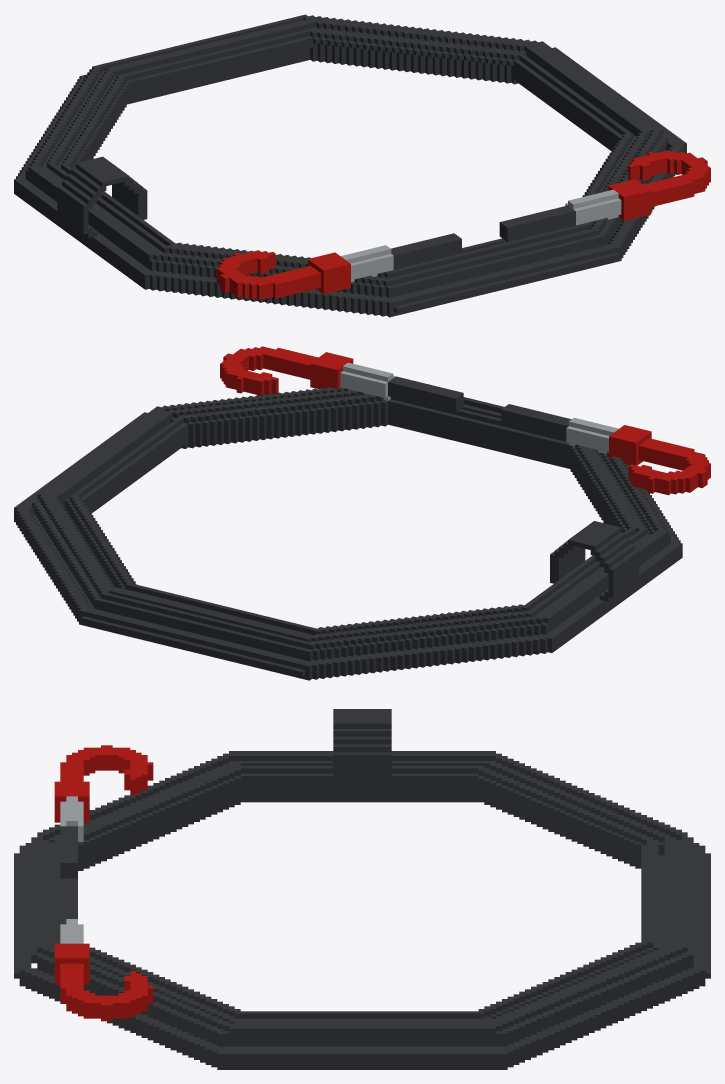
Rendered from hd_tow_cable.glb.
The picture shows the model from 3 angles, top to bottom: view 1: azimuth 30°, elevation 25°; view 2: azimuth 150°, elevation 25°; view 3: azimuth 270°, elevation 25°; orthographic projection. The views are drawn at different scales.
Visible parts, largest first — view 1: hd_tow_cable:compound; view 2: hd_tow_cable:compound; view 3: hd_tow_cable:compound.
Boxes of the visible parts, box(x1,y1,x2,y2) form: hd_tow_cable:compound: box(14, 14, 710, 317); hd_tow_cable:compound: box(14, 346, 710, 680); hd_tow_cable:compound: box(14, 709, 710, 1069).
Bounding box in the file's own units: 0.484 × 0.056 × 0.48.
